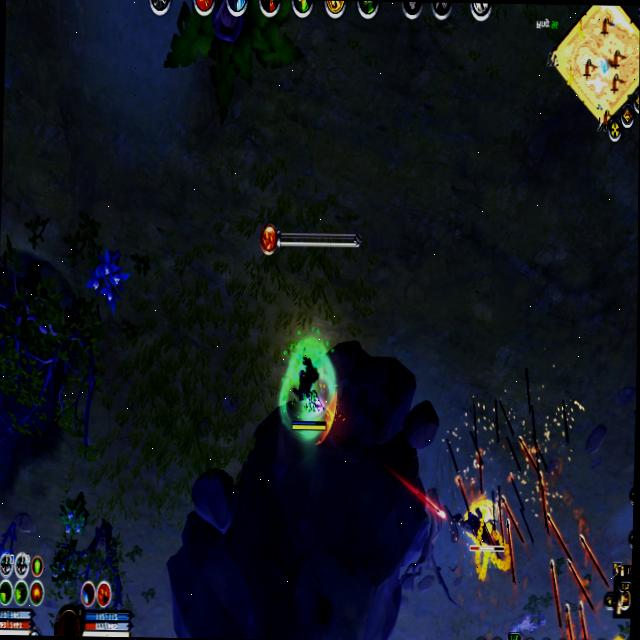hide: (89, 245, 126, 312), (59, 488, 89, 540)
ore: (451, 496, 514, 576)
red: (286, 350, 330, 436)
